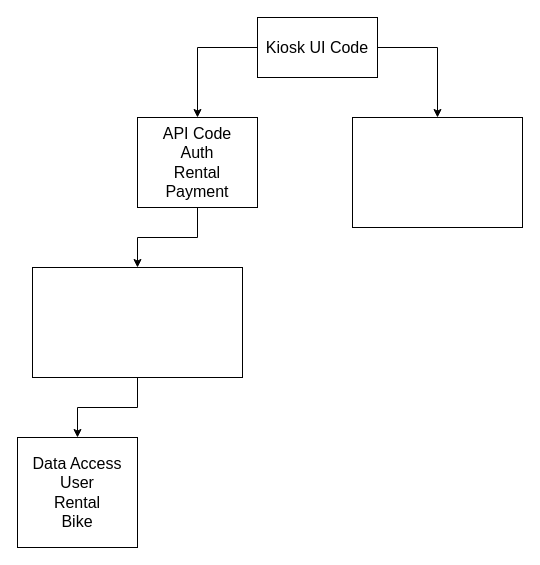
This 540x565 diagram has some shape labels left out. The centre of each missing label's shape, as x and y in pixels:
"Business Logic InventoryMangament PaymentManagement RentalManagement" goes at pixel 137 322.
"External Stuff Payment Gateway" goes at pixel 437 172.
